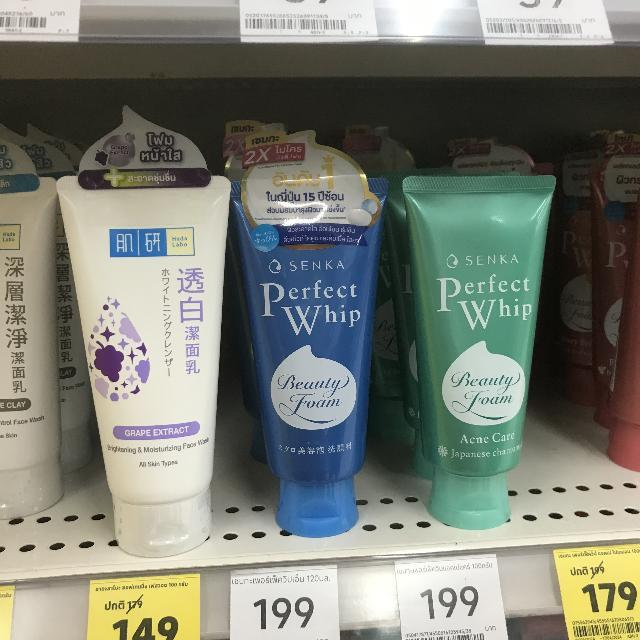Squeeze Tube: (46, 135, 224, 558), (382, 149, 564, 523), (220, 144, 367, 546), (0, 158, 80, 529)
